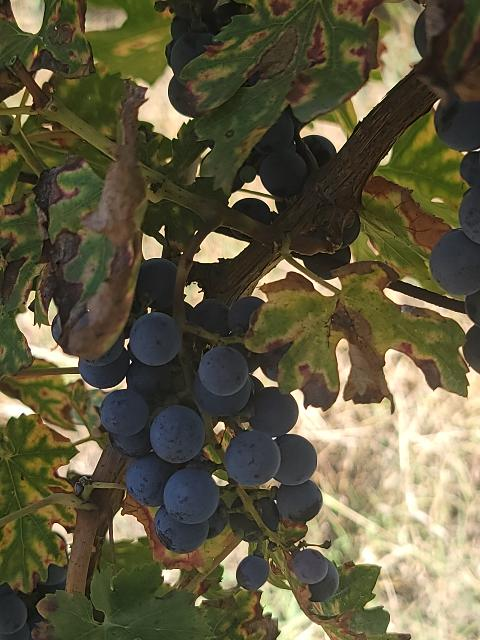grapes: (80, 259, 321, 554)
